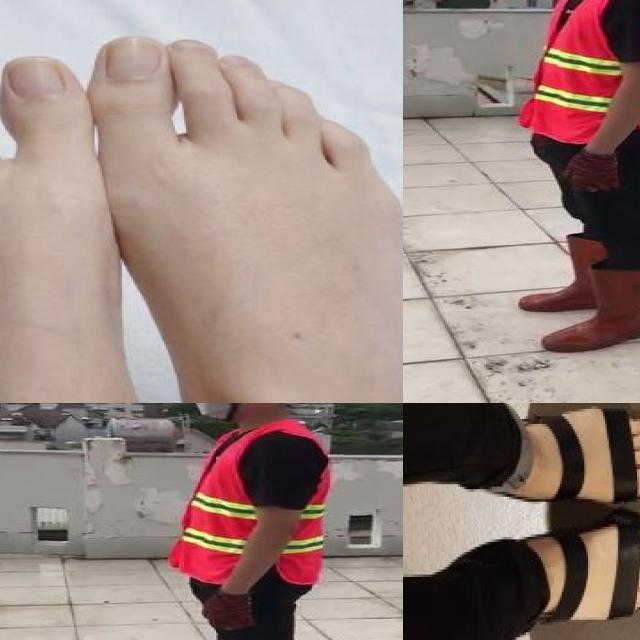Barefoots: (0, 37, 403, 403)
Sandals: (469, 406, 640, 505), (500, 518, 640, 623)
boots: (541, 267, 640, 353), (518, 237, 610, 313)
face_mask: (185, 403, 242, 420)
hand_glove: (562, 150, 620, 192), (202, 593, 253, 630)
person: (494, 0, 640, 366), (137, 403, 336, 640)
vest: (172, 423, 330, 585), (514, 0, 640, 145)
